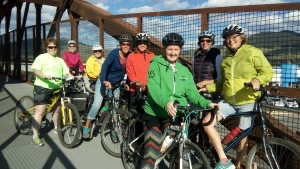helmet: (160, 29, 185, 63), (220, 24, 247, 53), (133, 32, 152, 53)
